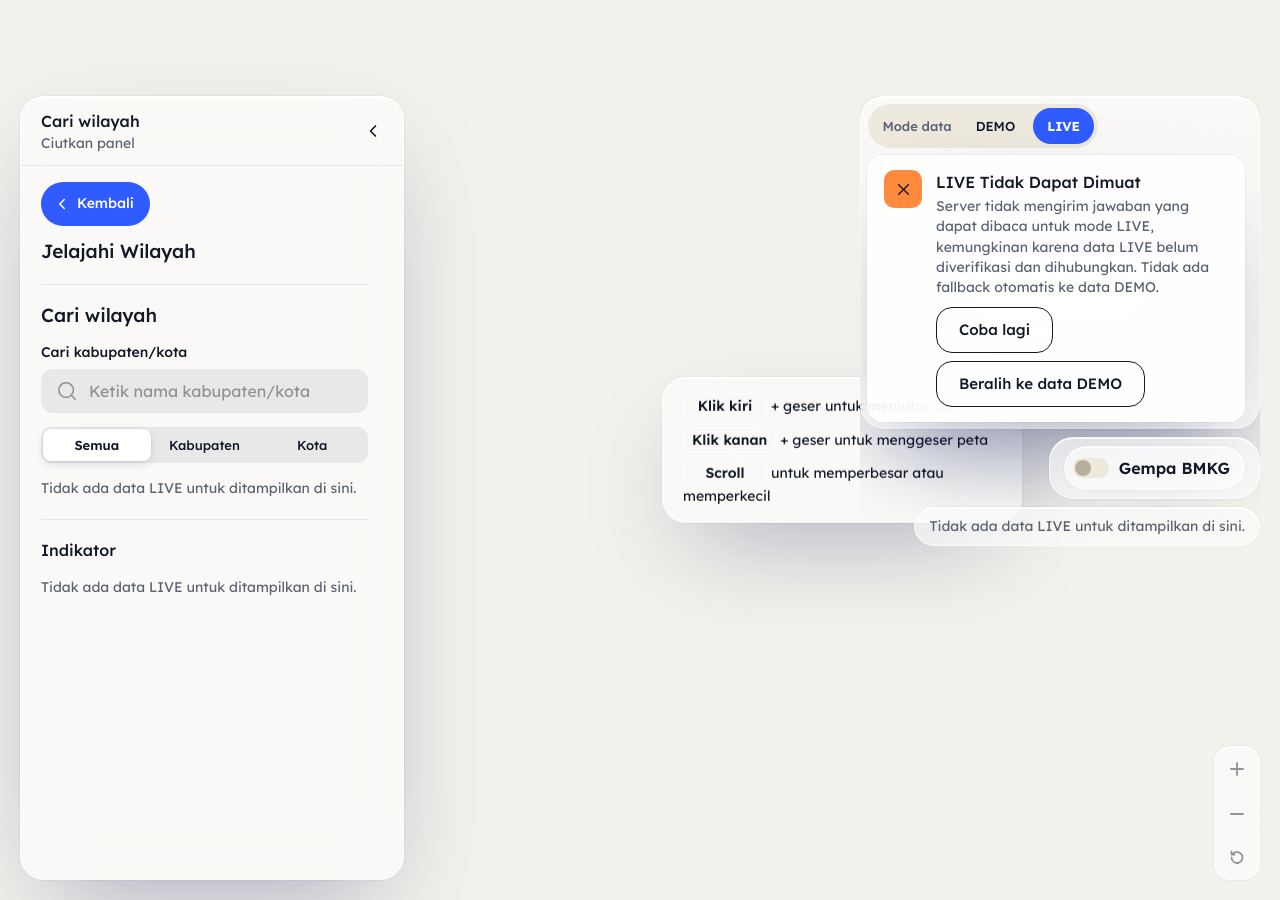
Test: LIVE unavailable through unreadable: an unreadable response (the real API sends its 503 without CORS headers) › returns to DEMO on request: the message goes away and the DEMO data loads again
Click the button "Beralih ke data DEMO" at (1041, 384), box 936,362 -> 1145,408
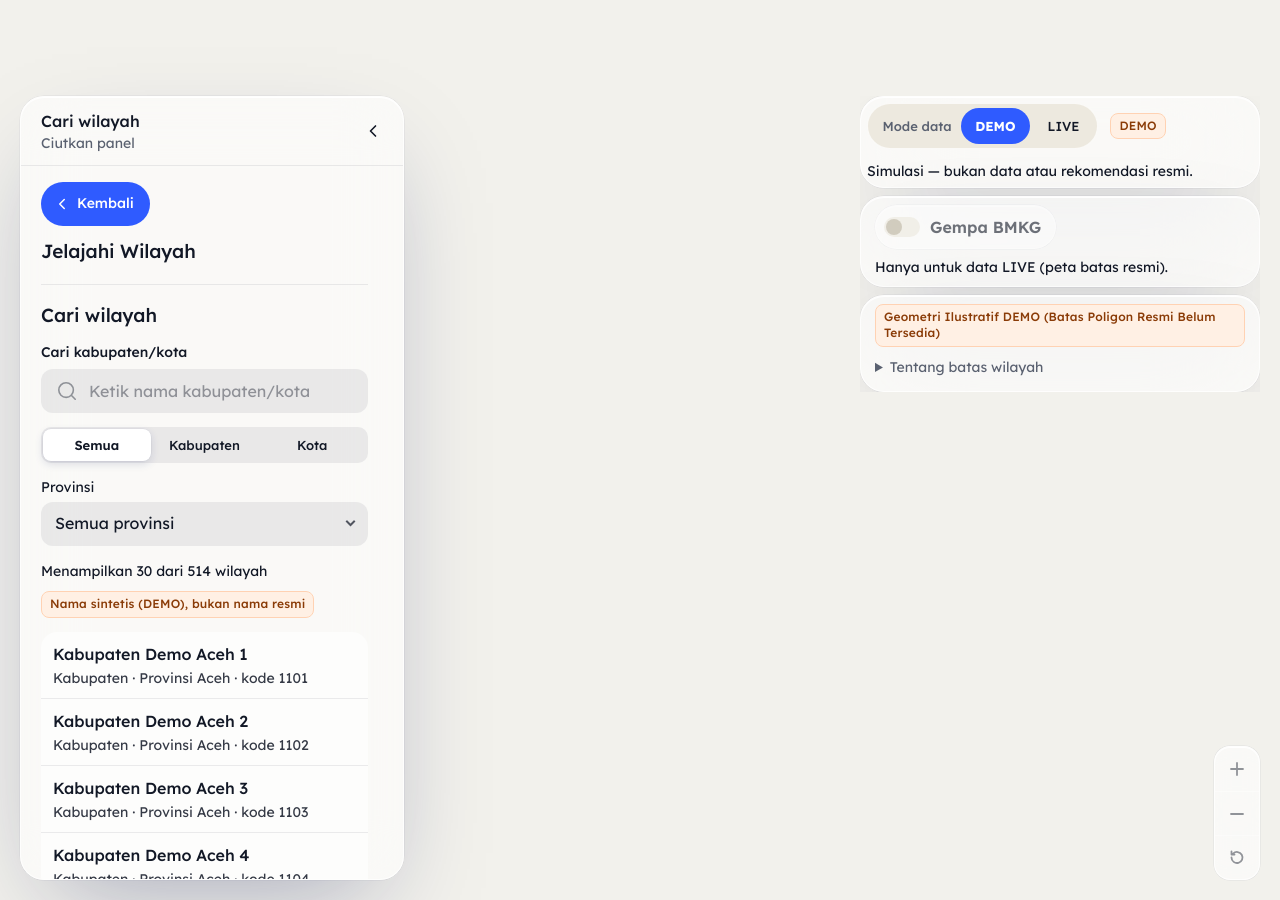
Expected: the radio button "DEMO" is shown, 961,108 -> 1030,144
Result: the text "Menampilkan 30 dari 514 wilayah" is shown at 41,560 -> 267,583
Result: the text "Tidak ada data LIVE untuk ditampilkan di sini." is gone
